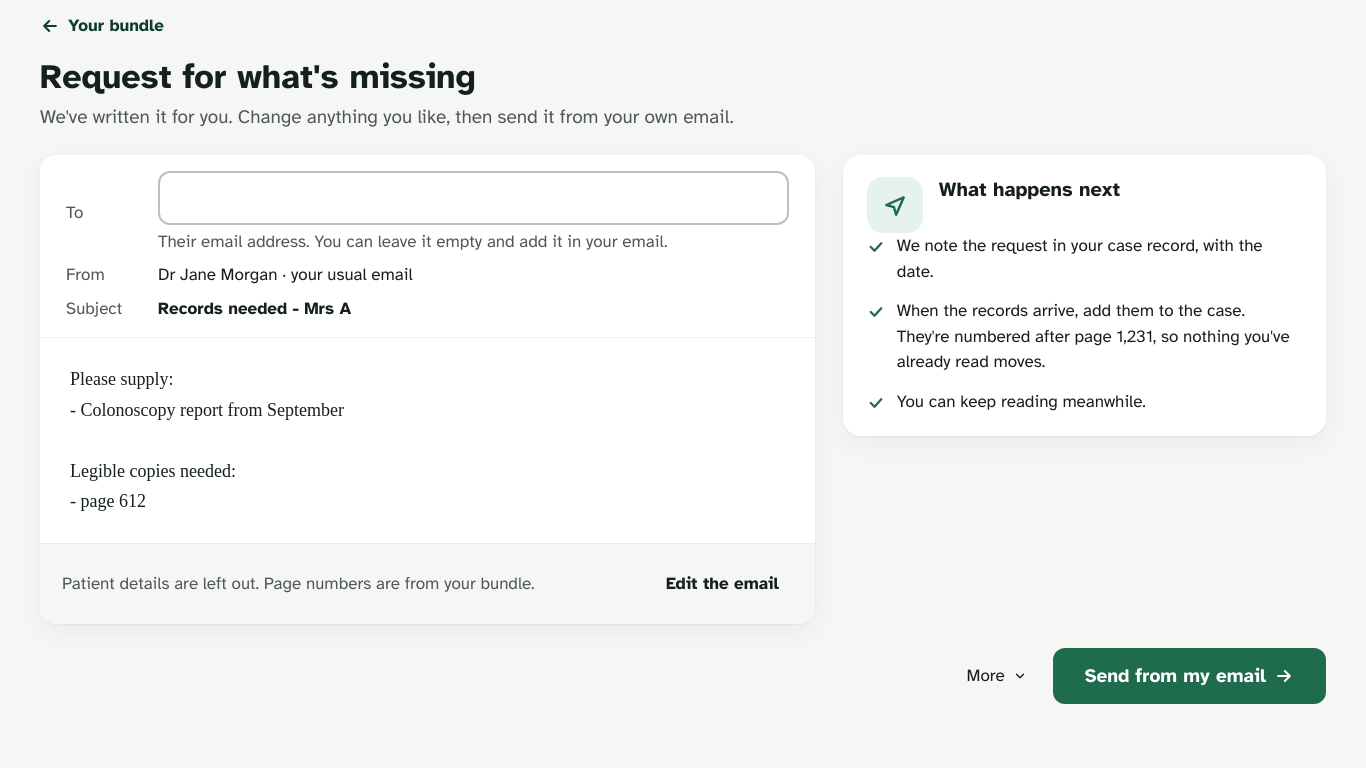
Test: Ask for what's missing, calm › Send is the one primary button and Copy is in a Menu
(page scrolled)
expect the button "Edit the email" is shown: met, box top-left (652, 558), bottom-right (793, 610)
expect the button "Copy the text" is not shown: met
Click the button "More" at x=997, y=676, box top-left (952, 650), bottom-right (1041, 702)
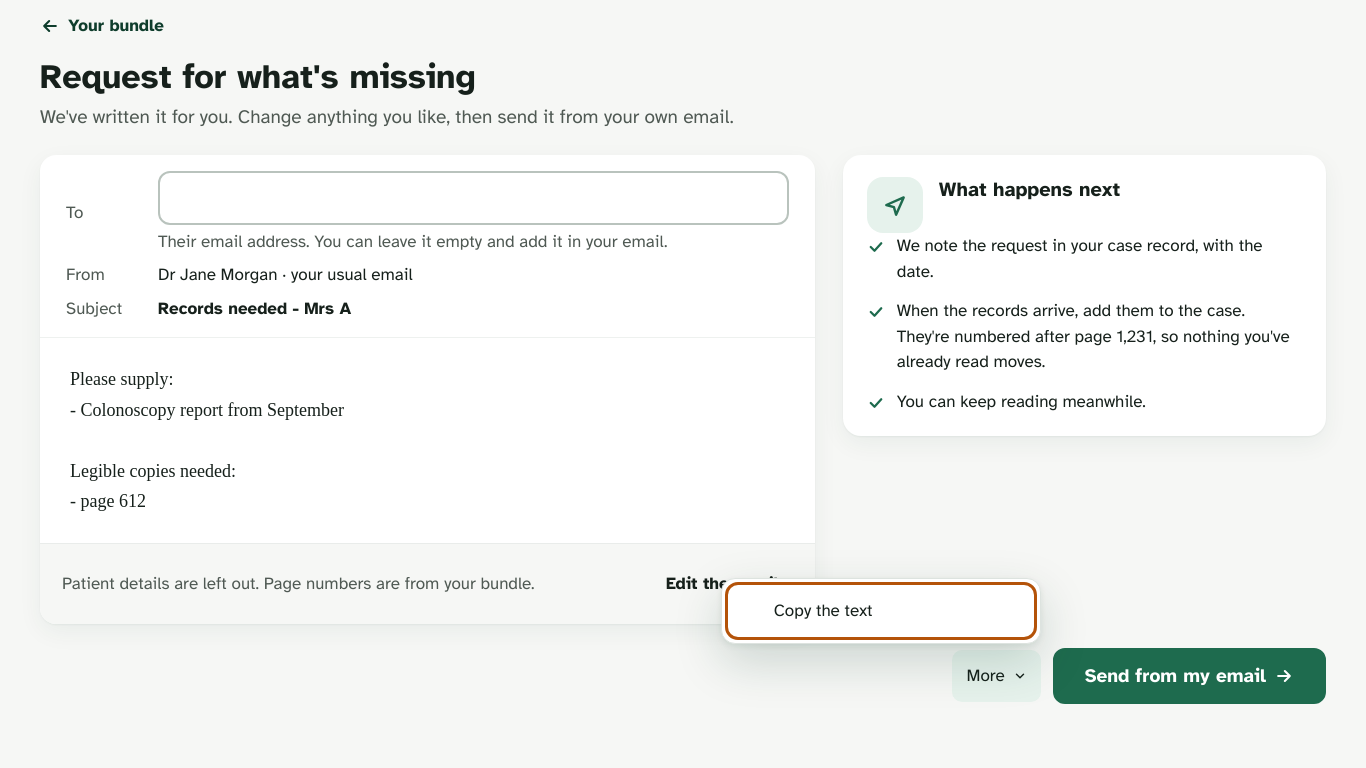
expect the button "Copy the text" is shown: met, box top-left (730, 587), bottom-right (1032, 635)
